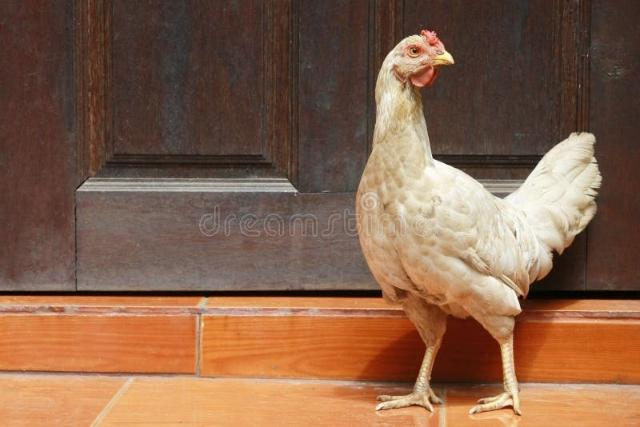Chicken: (355, 30, 602, 417)
